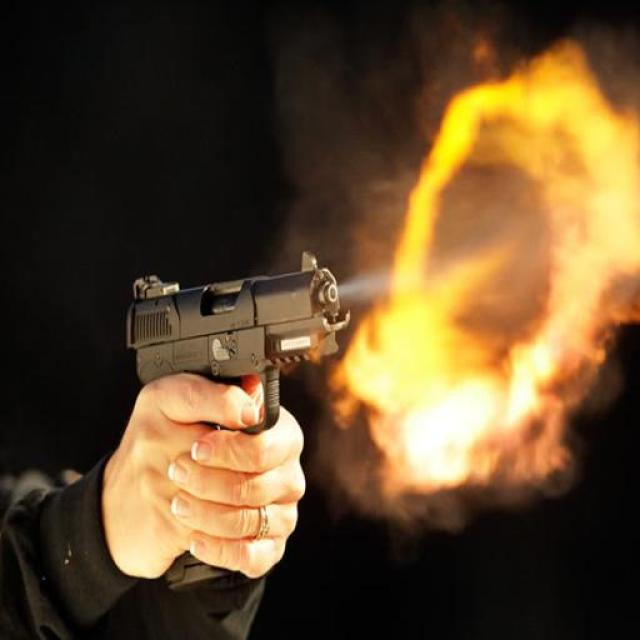pistol: (125, 250, 347, 592)
